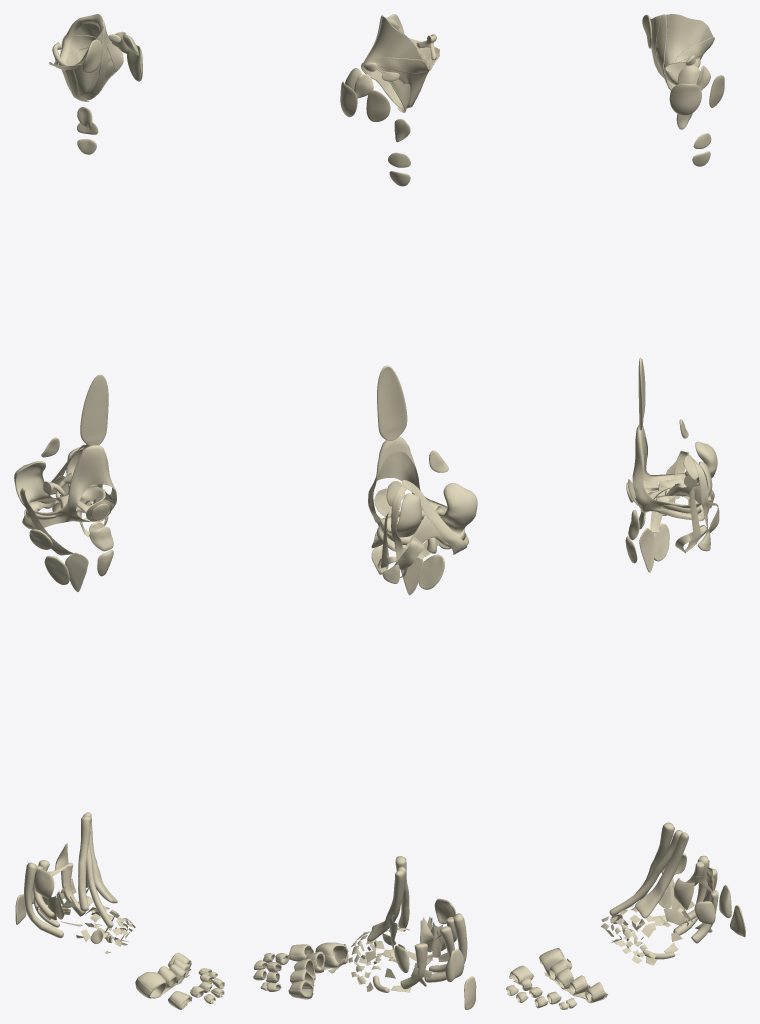
File: joints.lower_limb_left.glb
3 renders of one model, left to right at view 1: azimuth 30°, elevation 25°; view 2: azimuth 210°, elevation 25°; view 3: azimuth 270°, elevation 25°, orthographic. The views are drawn at different scales.
Visible parts, largest first — view 1: left_articular_capsule_of_knee_joint, left_suprapatellar_bursa, left_articular_capsule_of_hip_joint, left_articular_capsules_of_metatarsophalangeal_joints, left_tendon_sheath_of_tibialis_anterior, left_tendon_sheath_of_flexor_digitorum_longus, left_acetabular_labrum, left_subtendinous_bursa_of_sartorius_muscle, left_tendon_sheath_of_extensor_hallucis_longus, left_tendon_sheath_of_extensor_digitorum_longus, left_anserine_bursa, left_superficial_part_of_tibial_collateral_ligament; view 2: left_articular_capsule_of_knee_joint, left_articular_capsule_of_hip_joint, left_suprapatellar_bursa, left_articular_capsules_of_metatarsophalangeal_joints, left_arcuate_popliteal_ligament, left_oblique_popliteal_ligament, left_tendon_sheath_of_extensor_digitorum_longus, left_ischiofemoral_ligament, left_anserine_bursa, left_trochanteric_bursa_of_gluteus_maximus_muscle, left_tendon_sheath_of_flexor_digitorum_longus, left_frenula_capsulae (+2 smaller); view 3: left_articular_capsule_of_knee_joint, left_articular_capsule_of_hip_joint, left_articular_capsules_of_metatarsophalangeal_joints, left_tendon_sheath_of_extensor_digitorum_longus, left_subcutaneous_trochanteric_bursa, left_tendon_sheath_of_extensor_hallucis_longus, left_tendon_sheath_of_tibialis_anterior.
Part boxes in pixels (x1,y1,x2,y2): left_articular_capsule_of_knee_joint: (14,445,116,529); left_suprapatellar_bursa: (80,374,108,446); left_articular_capsule_of_hip_joint: (61,23,121,98); left_articular_capsules_of_metatarsophalangeal_joints: (135,952,190,998); left_tendon_sheath_of_tibialis_anterior: (78,816,91,911); left_tendon_sheath_of_flexor_digitorum_longus: (24,862,63,938); left_acetabular_labrum: (60,14,103,65); left_subtendinous_bursa_of_sartorius_muscle: (65,552,88,591); left_tendon_sheath_of_extensor_hallucis_longus: (85,815,113,927); left_tendon_sheath_of_extensor_digitorum_longus: (83,812,117,903); left_anserine_bursa: (44,555,69,584); left_superficial_part_of_tibial_collateral_ligament: (20,488,72,555); left_articular_capsule_of_knee_joint: (368,436,477,551); left_articular_capsule_of_hip_joint: (364,16,429,108); left_suprapatellar_bursa: (377,365,407,440); left_articular_capsules_of_metatarsophalangeal_joints: (290,942,348,998); left_arcuate_popliteal_ligament: (391,487,446,570); left_oblique_popliteal_ligament: (402,480,467,554); left_tendon_sheath_of_extensor_digitorum_longus: (367,870,404,941); left_ischiofemoral_ligament: (366,57,428,73); left_anserine_bursa: (418,554,444,589); left_trochanteric_bursa_of_gluteus_maximus_muscle: (366,90,390,121); left_tendon_sheath_of_flexor_digitorum_longus: (424,913,467,982); left_frenula_capsulae: (362,64,410,110); left_articular_capsule_of_knee_joint: (632,425,717,521); left_articular_capsule_of_hip_joint: (650,14,712,85); left_articular_capsules_of_metatarsophalangeal_joints: (539,949,604,1002); left_tendon_sheath_of_extensor_digitorum_longus: (635,832,688,918); left_subcutaneous_trochanteric_bursa: (669,83,701,115); left_tendon_sheath_of_extensor_hallucis_longus: (609,830,682,915); left_tendon_sheath_of_tibialis_anterior: (636,822,674,899).
Size of the model in its own units: 0.1393 by 0.9103 by 0.2048.
